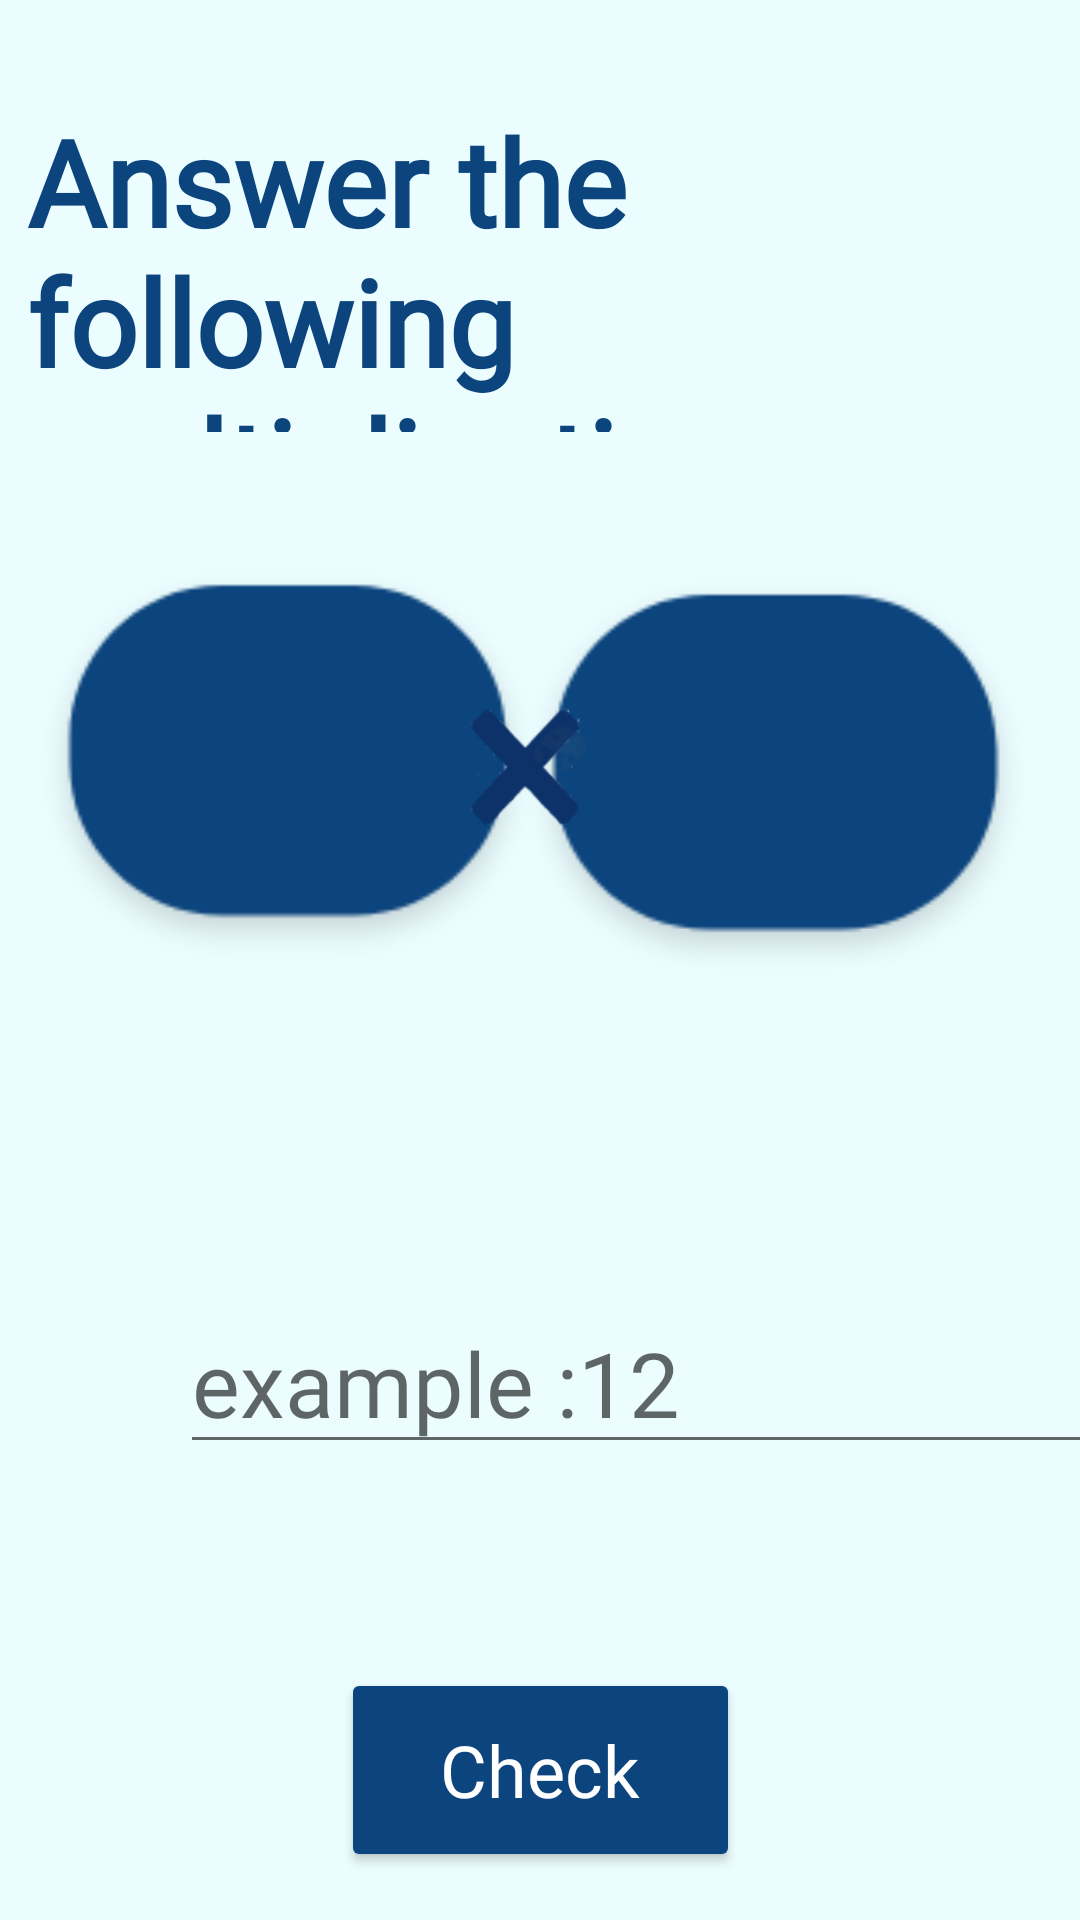

Icons on this 1080*1920 Android screen, each with its box as bbox=(x1, y1, x2, y2):
bluex: bbox=(471, 671, 580, 839)
